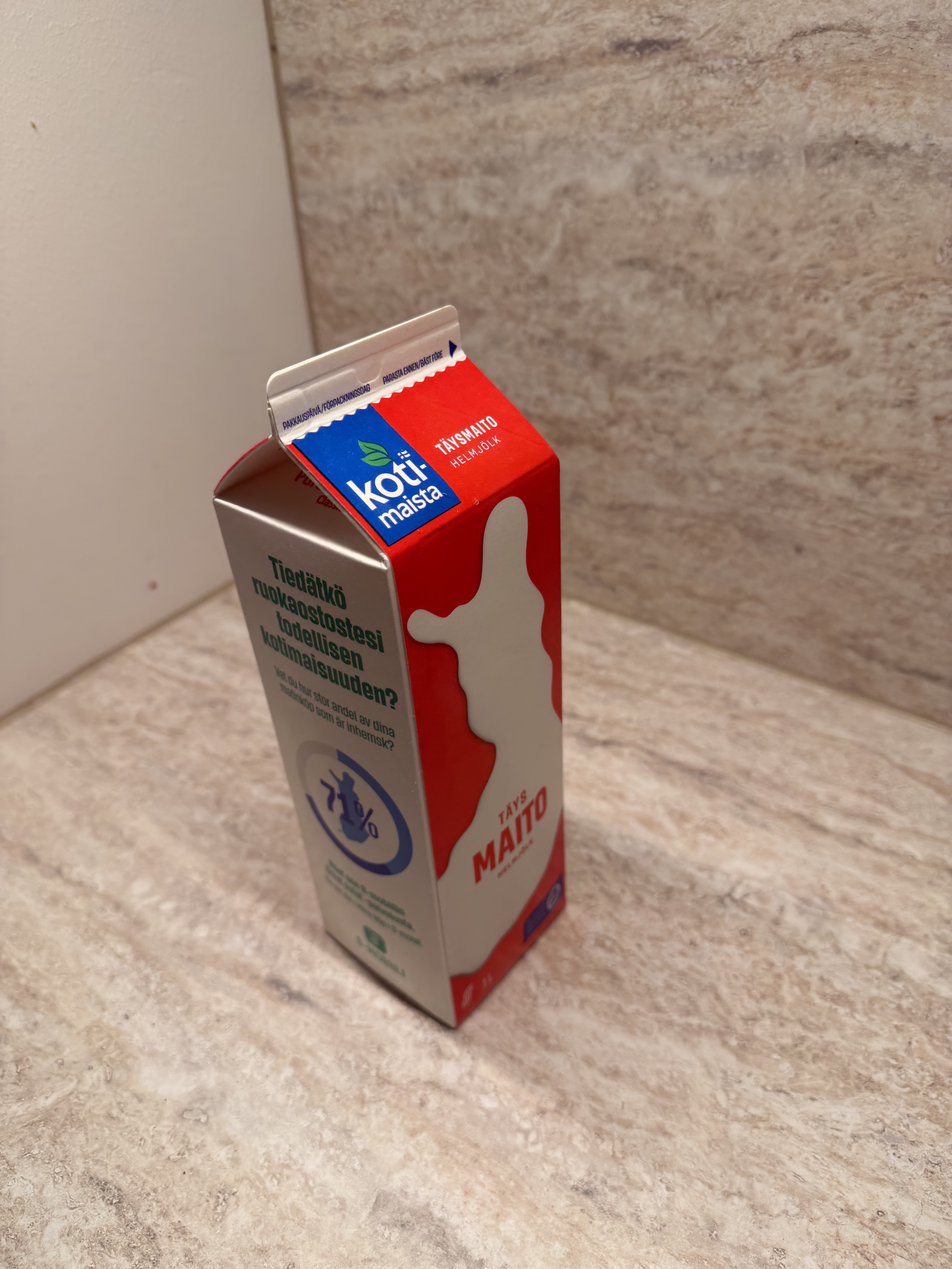Dryckeskartong: (191, 331, 583, 1037)
